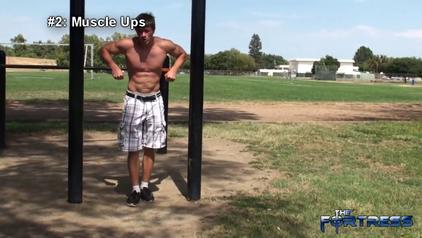stay: (118, 74, 159, 204)
